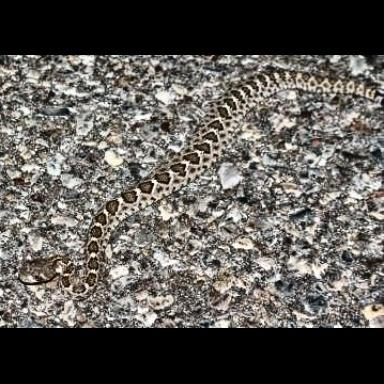snake: (2, 64, 384, 307)
